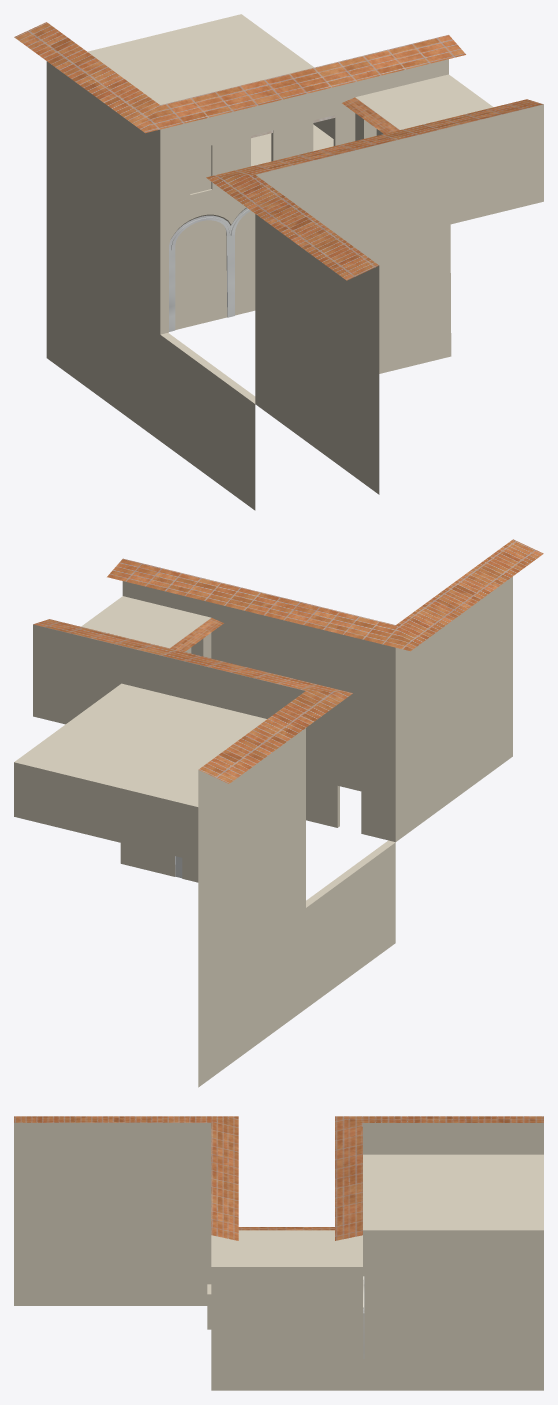
The model's file is StrutturaTerrazzo.fbx.
3 renders of one model, top to bottom at view 1: azimuth 30°, elevation 25°; view 2: azimuth 150°, elevation 25°; view 3: azimuth 270°, elevation 25°, orthographic. The views are drawn at different scales.
Visible parts, largest first — view 1: StrutturaTerrazzo; view 2: StrutturaTerrazzo; view 3: StrutturaTerrazzo.
Boxes of the visible parts, bbox=[...] form: StrutturaTerrazzo: bbox=[14, 14, 543, 510]; StrutturaTerrazzo: bbox=[14, 539, 543, 1087]; StrutturaTerrazzo: bbox=[14, 1116, 543, 1390].
Bounding box in the file's own units: 1563 × 1563 × 2804.
